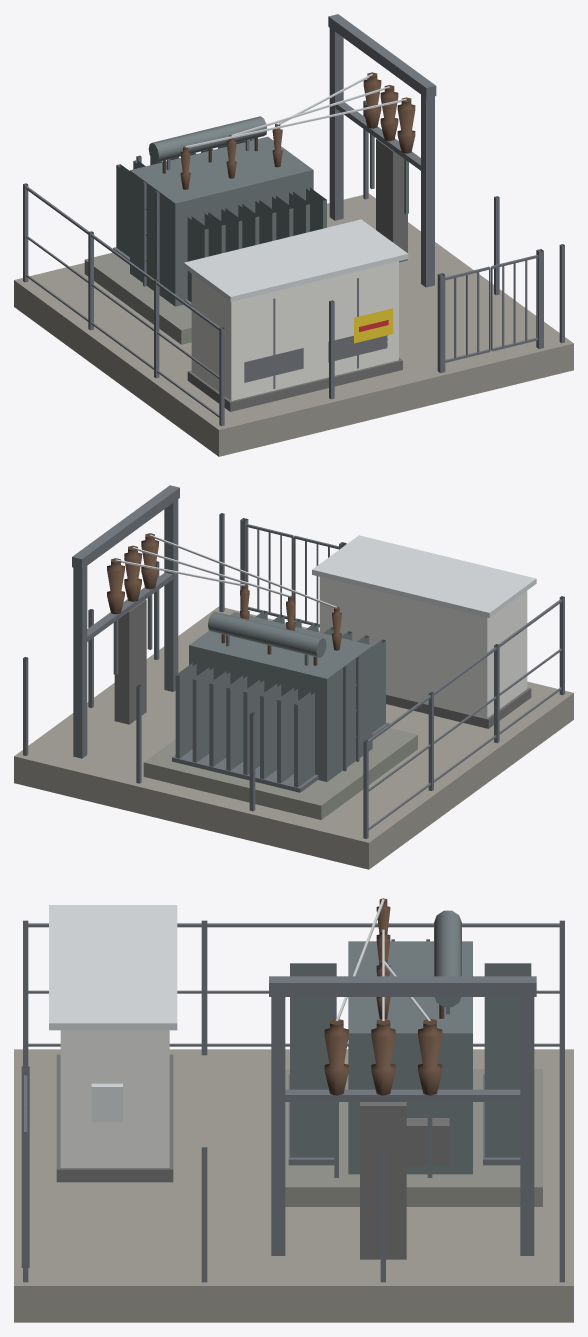
Rendered from mashup-power-top-prebuilt_close.fbx.
3 views of the same model, one above another, from view 1: azimuth 30°, elevation 25°; view 2: azimuth 150°, elevation 25°; view 3: azimuth 270°, elevation 25° (orthographic). The views are drawn at different scales.
Parts seen in each view (by area): view 1: a1074/0/mashup-power-top-prebuilt_close; view 2: a1074/0/mashup-power-top-prebuilt_close; view 3: a1074/0/mashup-power-top-prebuilt_close.
Part boxes in pixels (x1,y1,x2,y2): a1074/0/mashup-power-top-prebuilt_close: (14, 14, 573, 456); a1074/0/mashup-power-top-prebuilt_close: (14, 485, 573, 869); a1074/0/mashup-power-top-prebuilt_close: (14, 898, 573, 1322).
Size of the model in its own units: 7.2 by 4.4 by 7.2.
